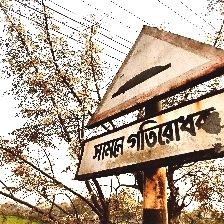Speed-breaker: (76, 25, 224, 181)
